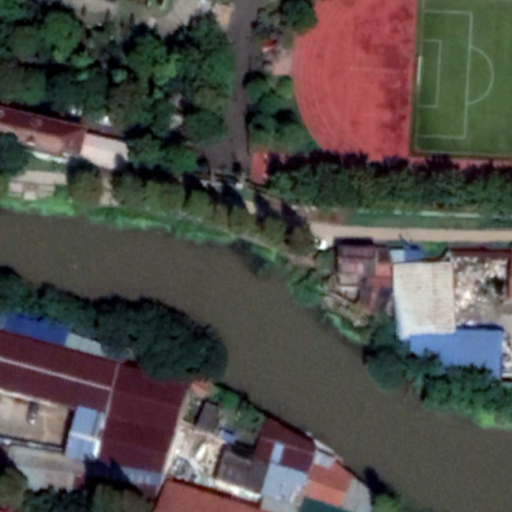msw: (454, 258, 506, 309)
